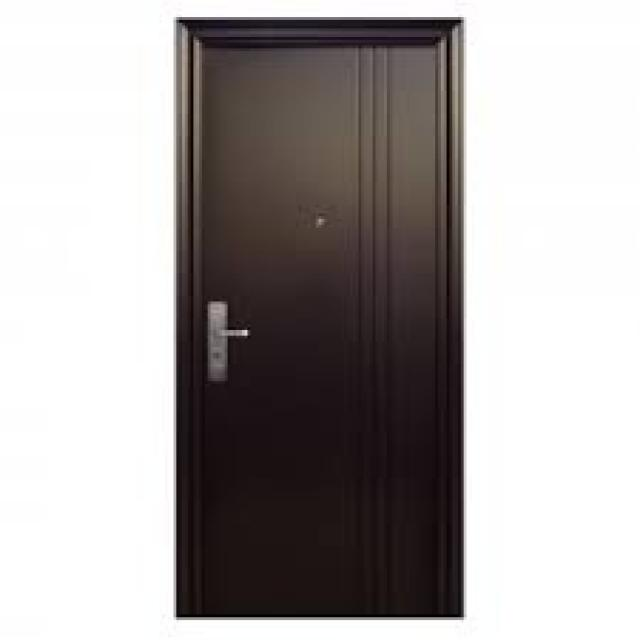door: (176, 16, 464, 618)
